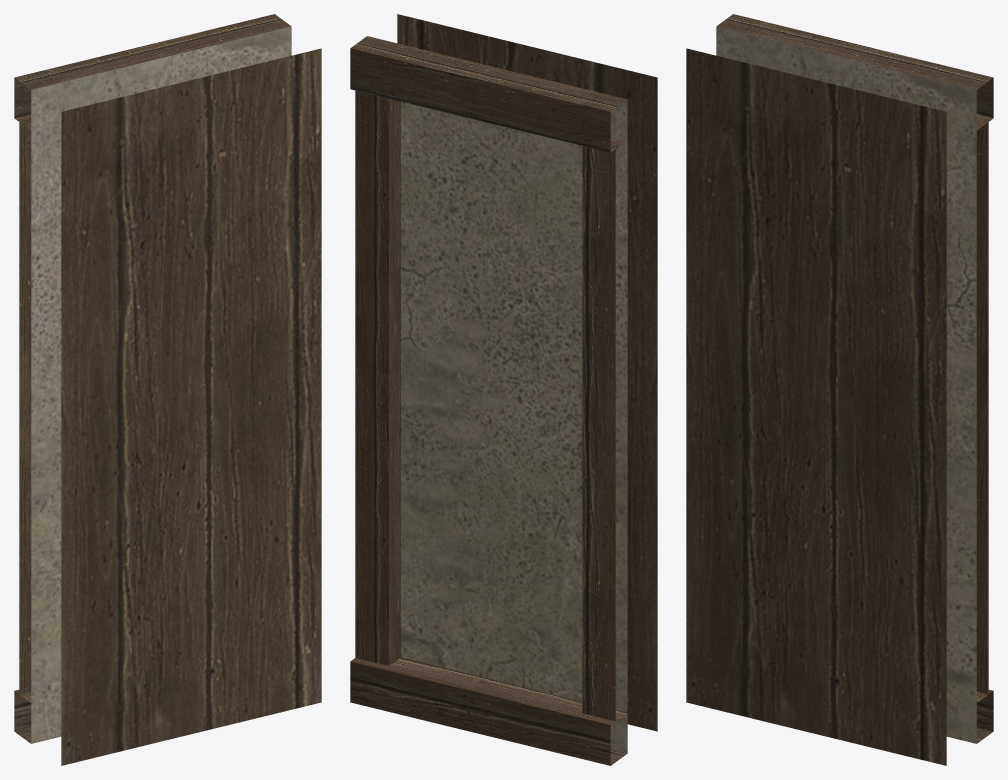
Rendered from ARC1010263.fbx.
The picture shows the model from 3 angles, left to right: view 1: azimuth 30°, elevation 25°; view 2: azimuth 150°, elevation 25°; view 3: azimuth 330°, elevation 25°; orthographic projection.
Parts seen in each view (by area): view 1: smARC1010263; view 2: smARC1010263; view 3: smARC1010263.
Boxes of the visible parts, x1,y1,x2,y2 form: smARC1010263: (14,14,321,765); smARC1010263: (350,14,657,765); smARC1010263: (686,14,993,765).
Bounding box in the file's own units: 112 × 268 × 34.9.
1 material, 1 textured.
